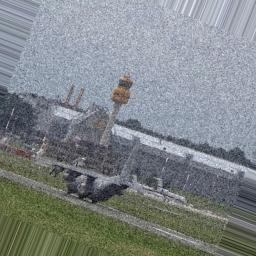Airplane: (49, 140, 176, 204)
